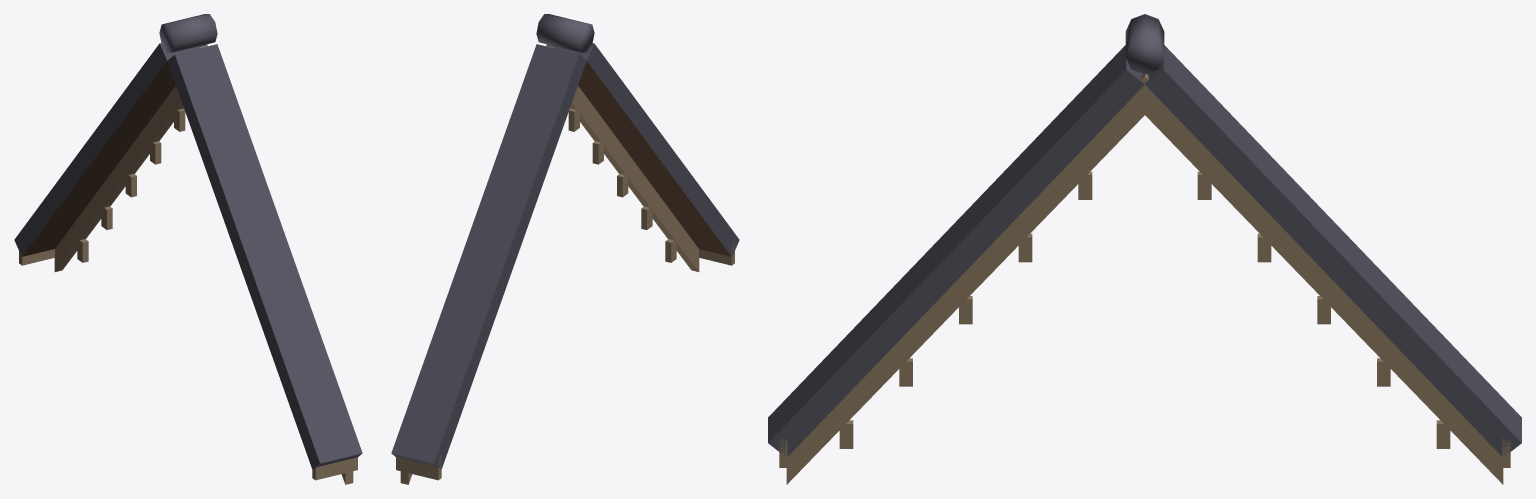
The model's file is kit_clapboard_slate_w2_end.glb.
3 views of the same model, side by side, from view 1: azimuth 30°, elevation 25°; view 2: azimuth 150°, elevation 25°; view 3: azimuth 270°, elevation 25° (orthographic). The views are drawn at different scales.
Visible parts, largest first — view 1: kit_clapboard_slate_w2_end; view 2: kit_clapboard_slate_w2_end; view 3: kit_clapboard_slate_w2_end.
Boxes of the visible parts, bbox=[...] form: kit_clapboard_slate_w2_end: bbox=[14, 14, 362, 484]; kit_clapboard_slate_w2_end: bbox=[391, 14, 739, 484]; kit_clapboard_slate_w2_end: bbox=[768, 14, 1521, 484].
Size of the model in its own units: 0.22 by 1.79 by 2.74.
